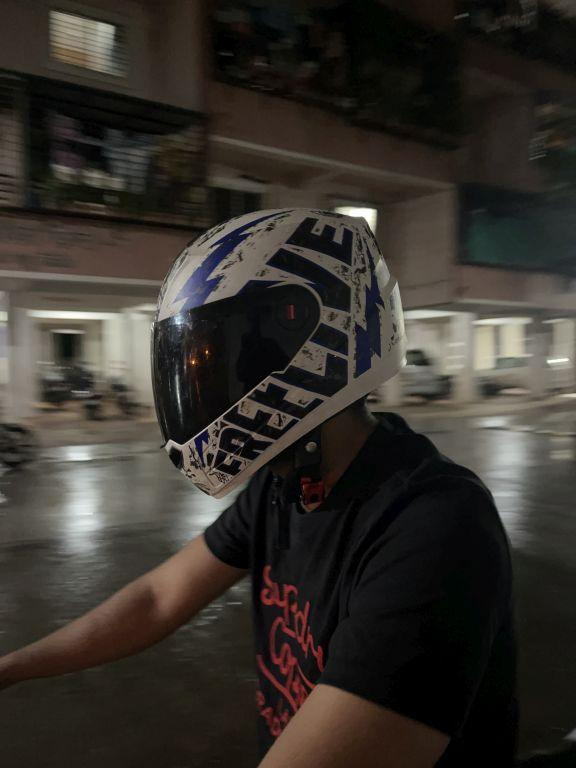helmet: (140, 195, 414, 519)
